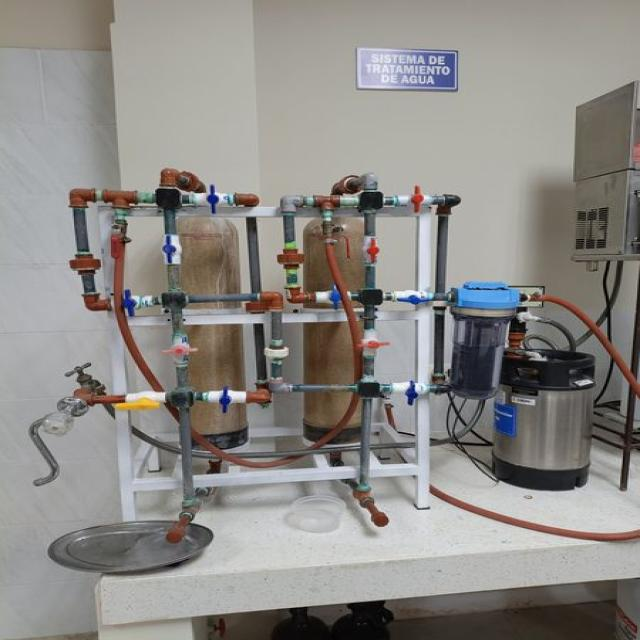Bateria de Desionizacion y Tratamiento de Agua: (30, 167, 639, 573)
